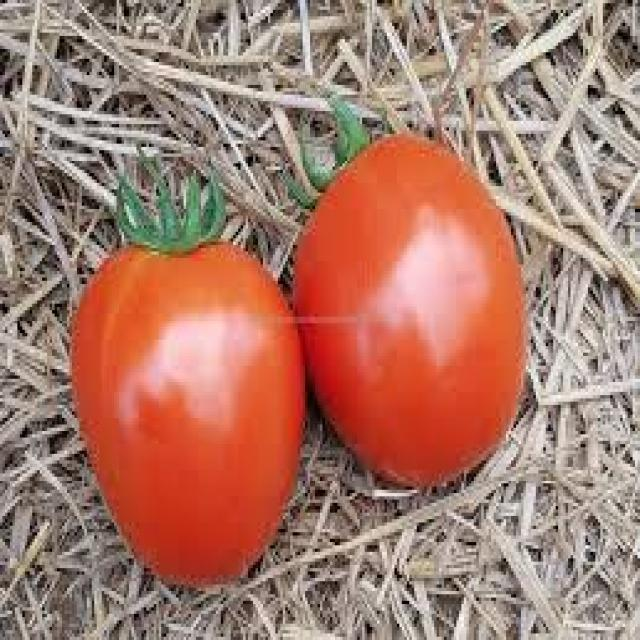Fresh_tomato: (300, 92, 523, 482), (73, 228, 301, 576)
